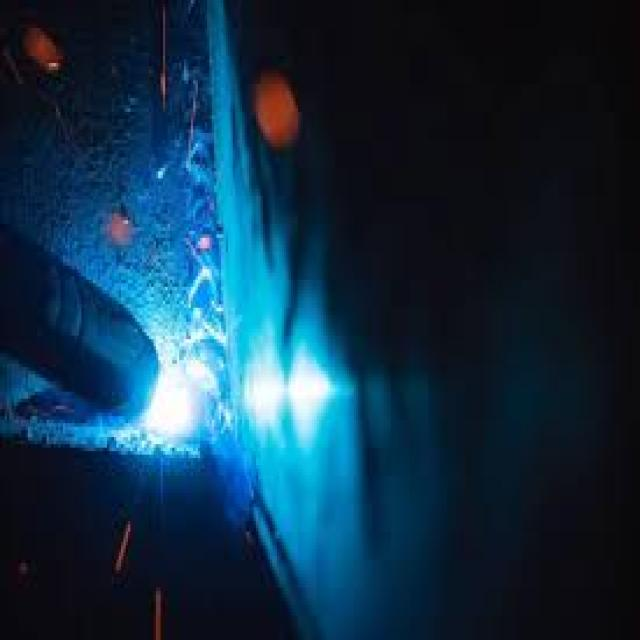welding: (158, 357, 199, 438)
